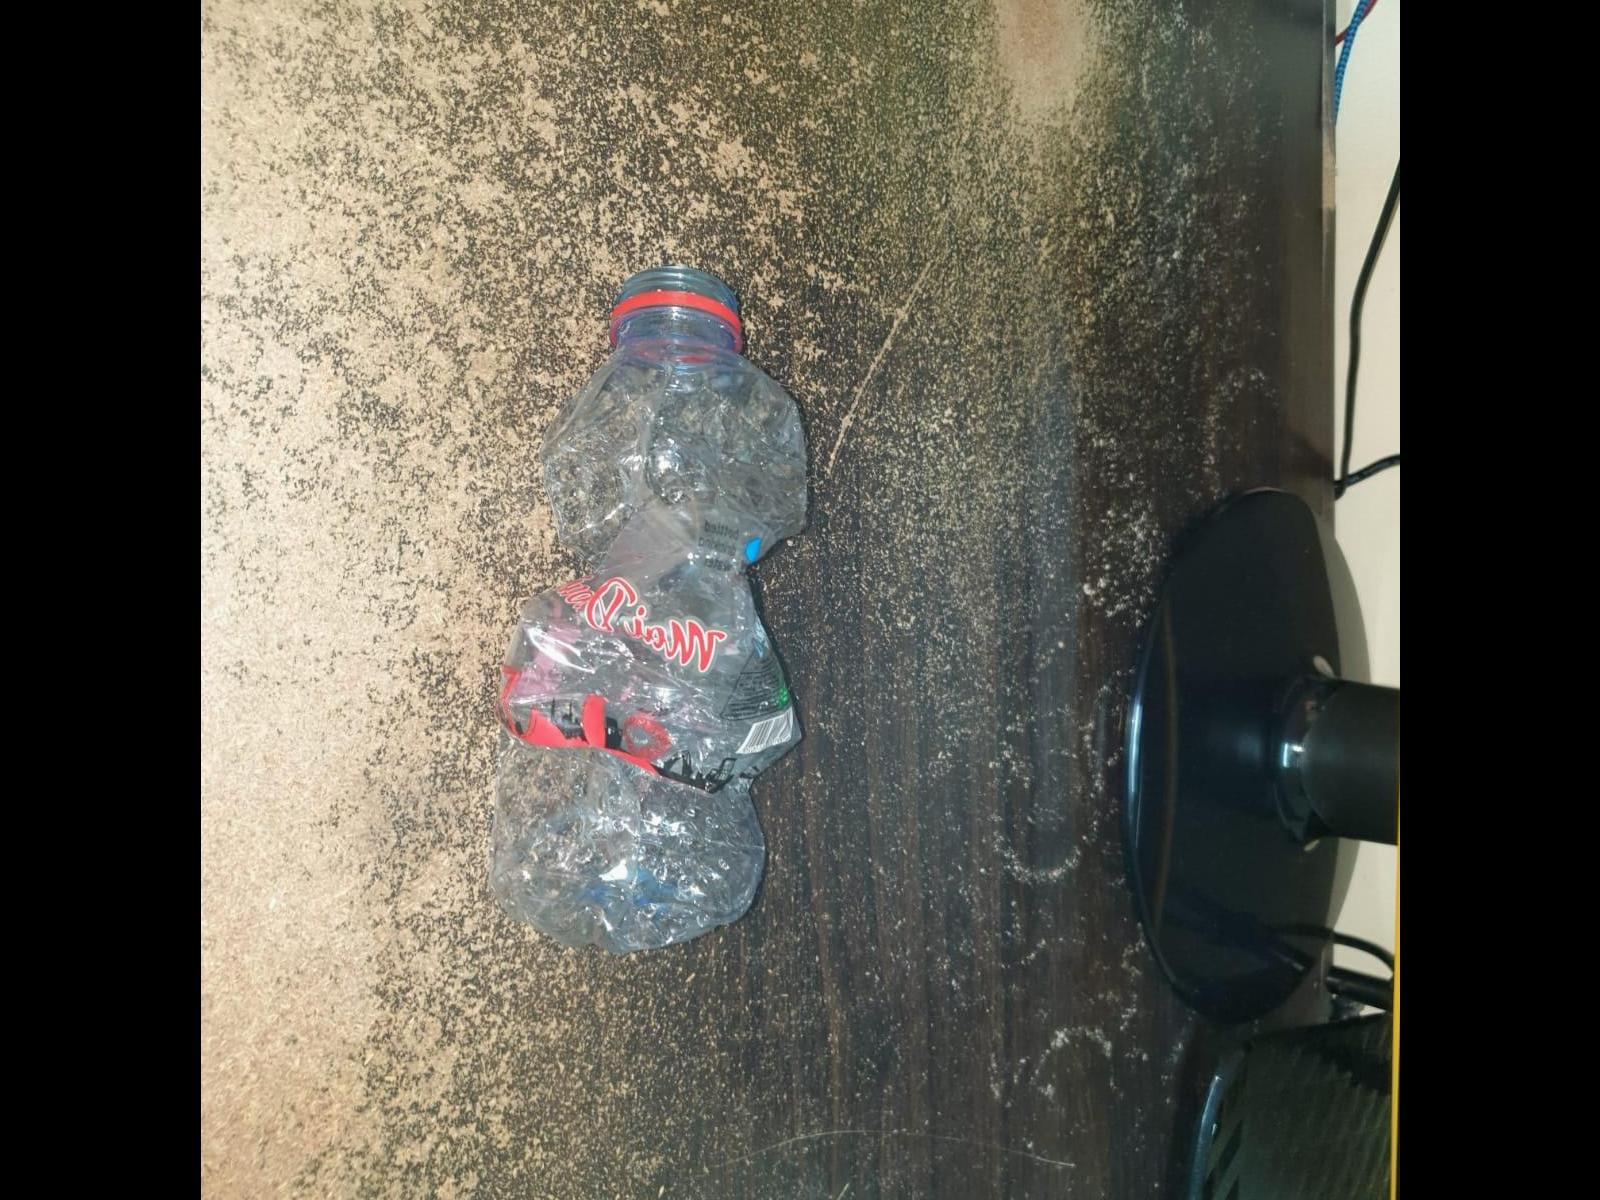bottle: (465, 254, 819, 985)
